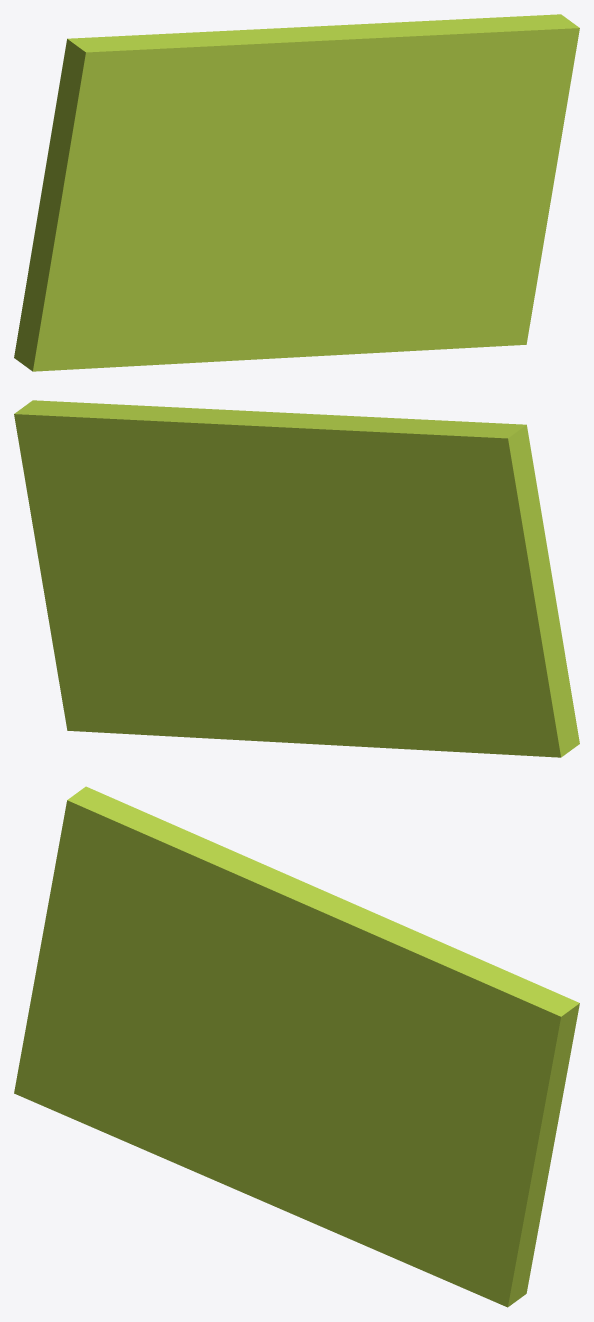
The picture shows the model from 3 angles, top to bottom: view 1: azimuth 30°, elevation 25°; view 2: azimuth 150°, elevation 25°; view 3: azimuth 330°, elevation 25°; orthographic projection.
Parts seen in each view (by area): view 1: osm-way27917482-F3; view 2: osm-way27917482-F3; view 3: osm-way27917482-F3.
Boxes of the visible parts, x1=… form: osm-way27917482-F3: x1=14, y1=14, x2=579, y2=371; osm-way27917482-F3: x1=14, y1=400, x2=579, y2=757; osm-way27917482-F3: x1=14, y1=786, x2=579, y2=1307.
Bounding box in the file's own units: 2.52 × 1.76 × 0.15.
